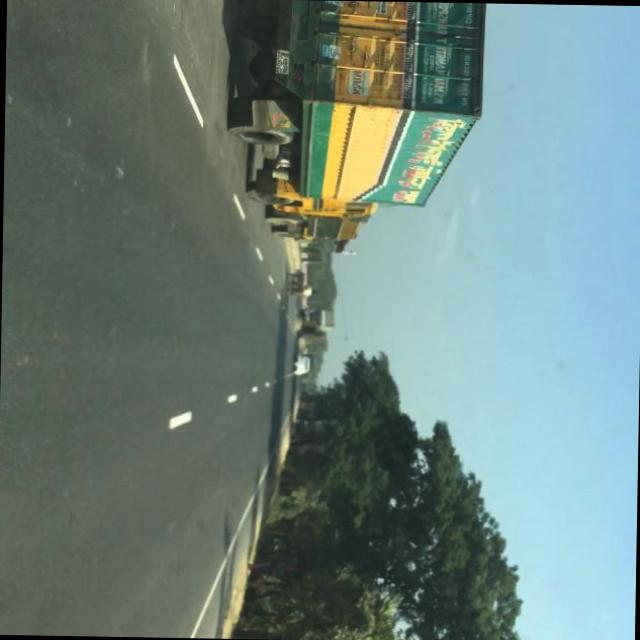truck: (221, 2, 492, 224)
